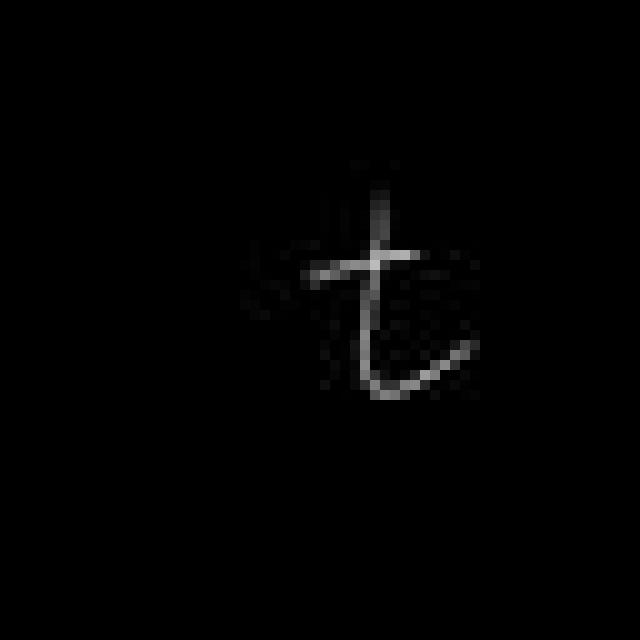7 -seven-: (298, 194, 479, 406)
